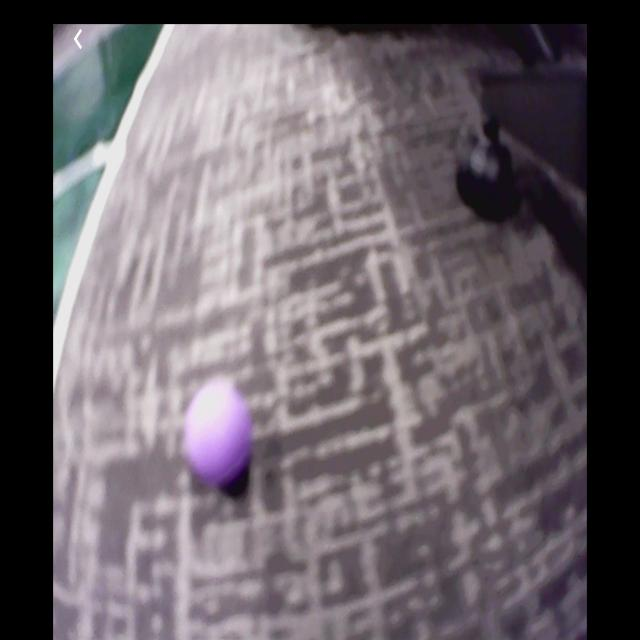ball: (183, 376, 252, 492)
